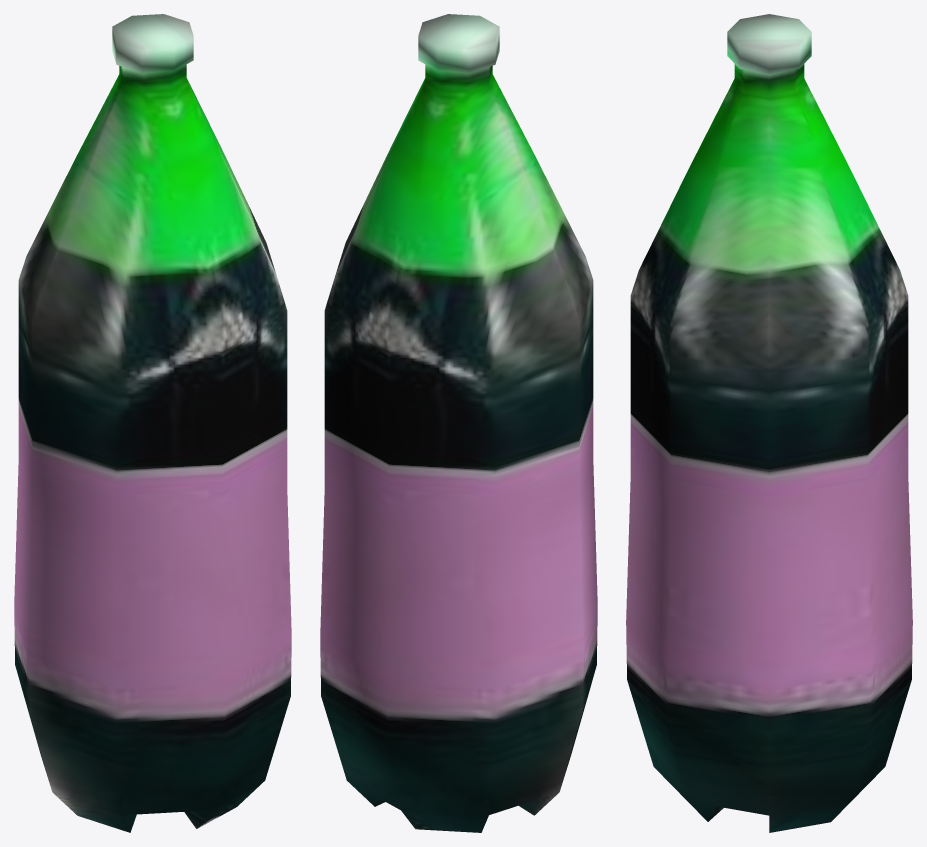
File: Soda_05.glb
The picture shows the model from 3 angles, left to right: view 1: azimuth 30°, elevation 25°; view 2: azimuth 150°, elevation 25°; view 3: azimuth 270°, elevation 25°; orthographic projection.
Parts seen in each view (by area): view 1: Soda_05; view 2: Soda_05; view 3: Soda_05.
Boxes of the visible parts, box(x1,y1,x2,y2) form: Soda_05: box(14, 14, 291, 832); Soda_05: box(320, 14, 597, 832); Soda_05: box(626, 14, 912, 832).
Size of the model in its own units: 0.2005 by 0.5896 by 0.2005.
Materials: 1 (1 with a texture image).
